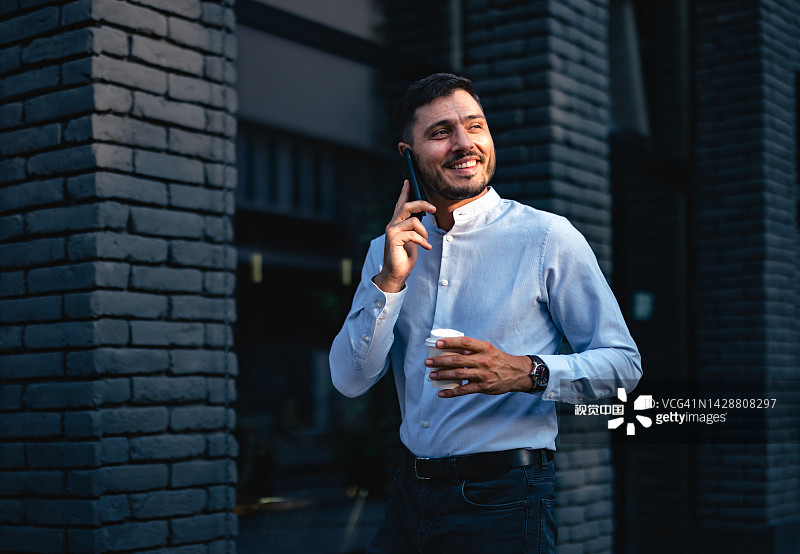calling: (368, 151, 441, 299)
no-phone: (418, 319, 554, 423)
